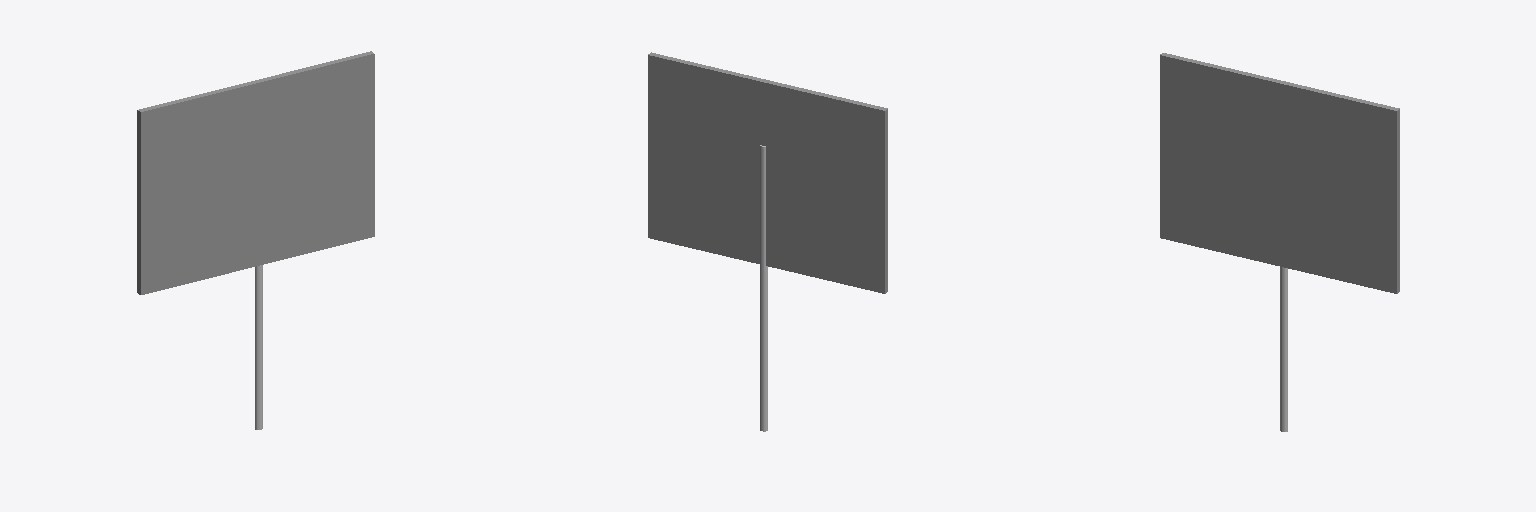
File: board_31.obj
3 views of the same model, side by side, from view 1: azimuth 30°, elevation 25°; view 2: azimuth 150°, elevation 25°; view 3: azimuth 330°, elevation 25° (orthographic).
Visible parts, largest first — view 1: Cube.007_Cube.008, Cylinder.007; view 2: Cube.007_Cube.008, Cylinder.007; view 3: Cube.007_Cube.008, Cylinder.007.
Boxes of the visible parts, x1=… form: Cube.007_Cube.008: x1=137, y1=51, x2=374, y2=294; Cylinder.007: x1=255, y1=265, x2=262, y2=429; Cube.007_Cube.008: x1=648, y1=52, x2=887, y2=293; Cylinder.007: x1=760, y1=145, x2=767, y2=431; Cube.007_Cube.008: x1=1160, y1=53, x2=1399, y2=293; Cylinder.007: x1=1280, y1=267, x2=1287, y2=431.
Size of the model in its own units: 0.4517 by 0.6384 by 0.0174.